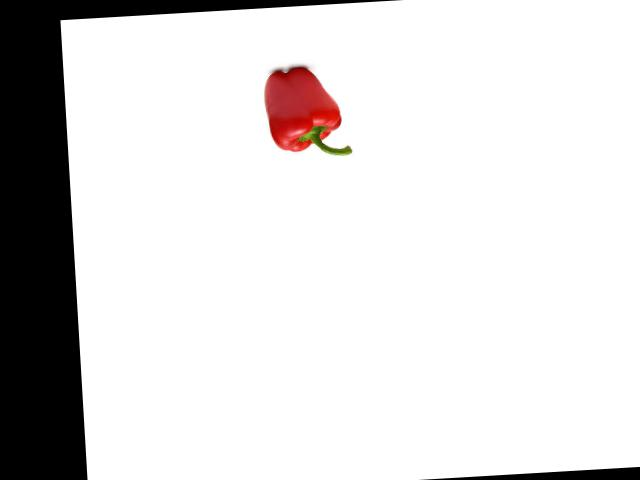bell_pepper: (258, 57, 355, 165)
